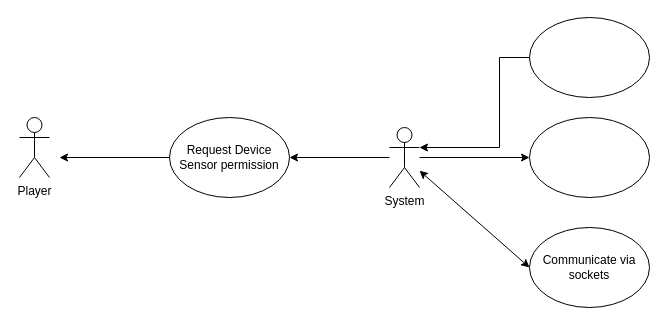
The diagram is 667 pixels wide and 325 high, and some of its shapes have lost their labels. The shapes that lost their labels are listed below. From the top down, each one's centre as x and y in pixels, then its label:
point (589, 57): Receive API Rest Data
point (589, 157): Process Sensor Stream
